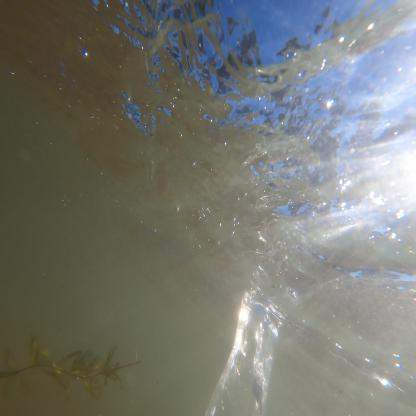Rác: (207, 298, 282, 416)
